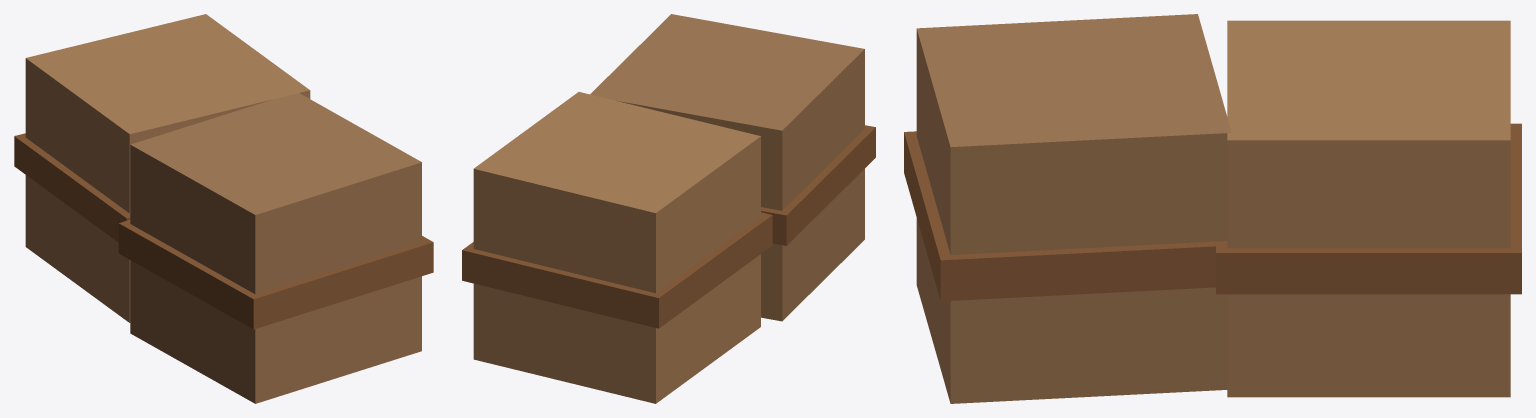
Rendered from crates_small.fbx.
3 renders of one model, left to right at view 1: azimuth 30°, elevation 25°; view 2: azimuth 150°, elevation 25°; view 3: azimuth 270°, elevation 25°, orthographic. The views are drawn at different scales.
Parts seen in each view (by area): view 1: crates_small; view 2: crates_small; view 3: crates_small.
Part boxes in pixels (x1=…): crates_small: x1=14, y1=14, x2=433, y2=403; crates_small: x1=462, y1=14, x2=875, y2=403; crates_small: x1=904, y1=14, x2=1521, y2=403.
Size of the model in its own units: 0.0601 by 0.05 by 0.109.
